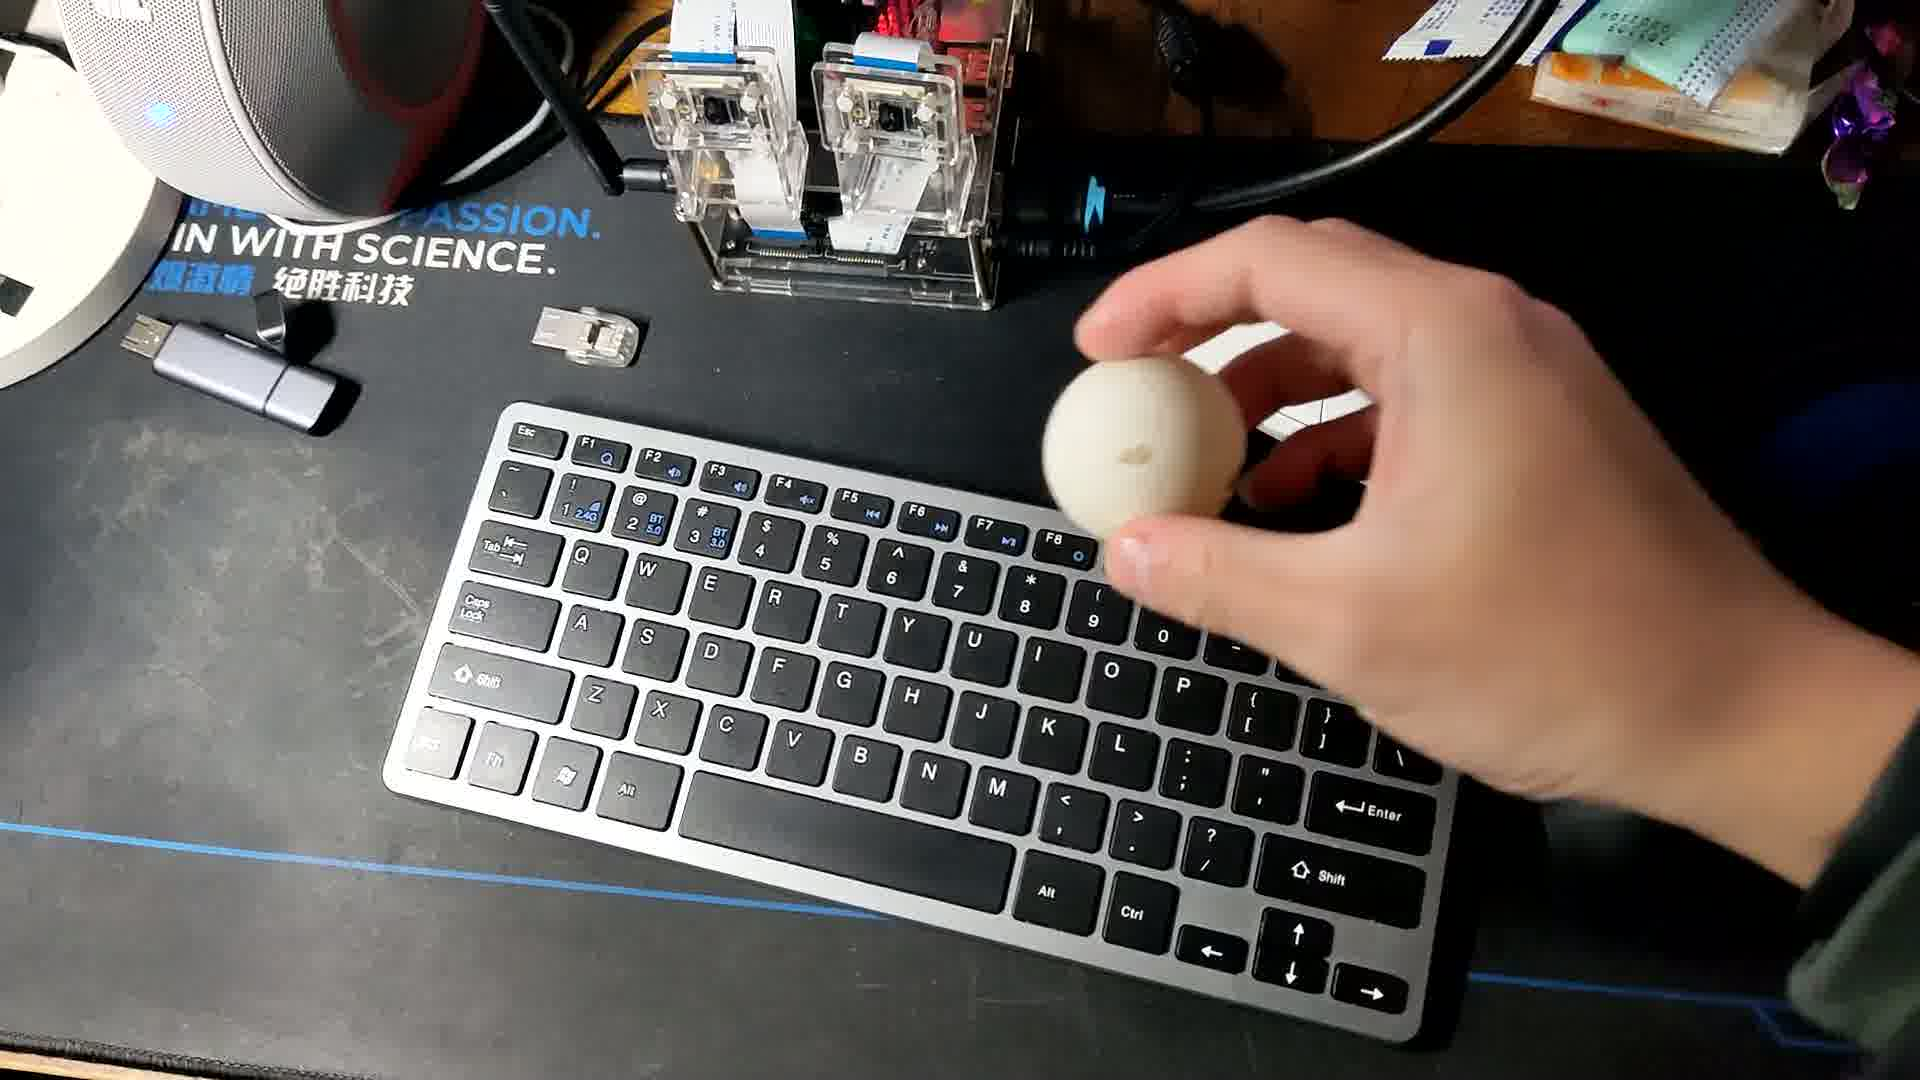Ball: (1043, 356, 1251, 556)
